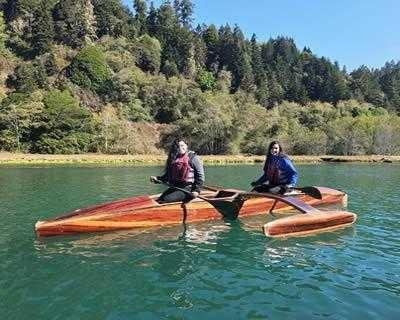kayak: (36, 185, 353, 237), (263, 210, 358, 238)
